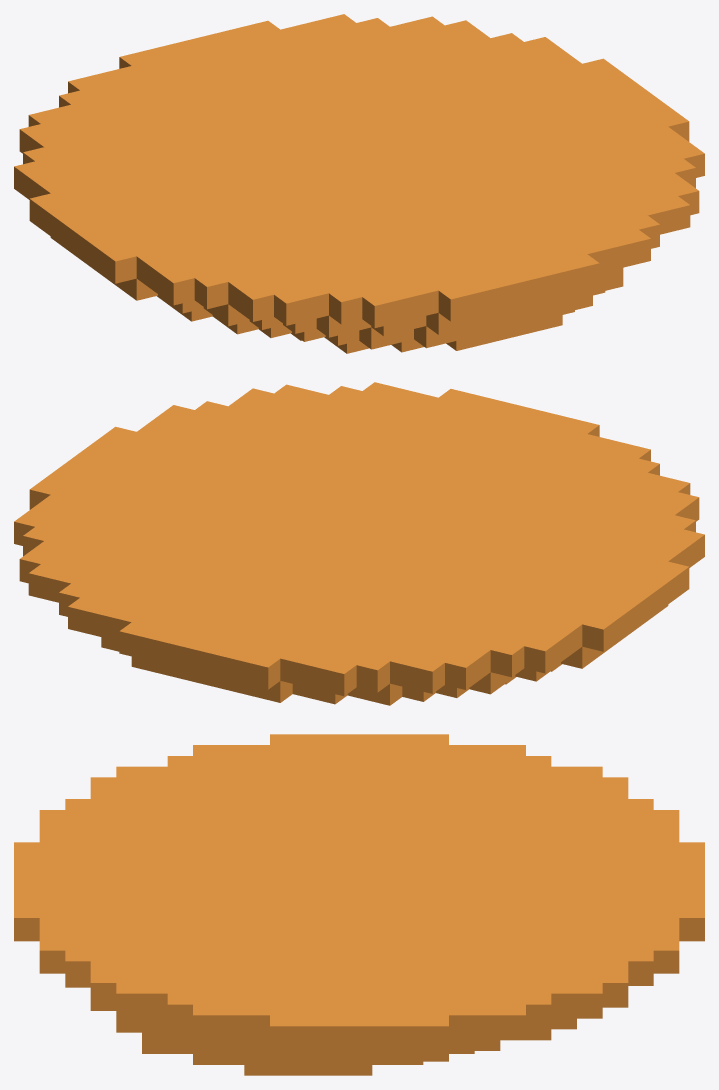
File: lizardbomb-0.obj
3 views of the same model, one above another, from view 1: azimuth 30°, elevation 25°; view 2: azimuth 150°, elevation 25°; view 3: azimuth 270°, elevation 25° (orthographic). The views are drawn at different scales.
Size of the model in its own units: 2.7 by 0.4 by 2.7.
Materials: 1 (1 with a texture image).
